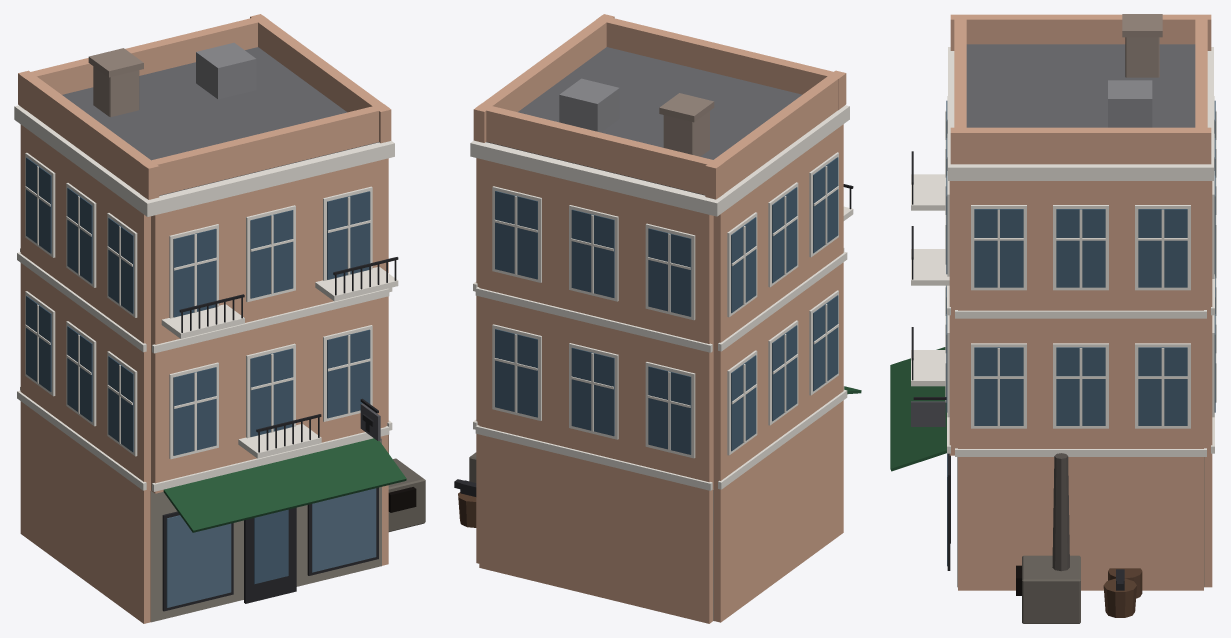
Rendered from forge_4.glb.
3 views of the same model, side by side, from view 1: azimuth 30°, elevation 25°; view 2: azimuth 150°, elevation 25°; view 3: azimuth 270°, elevation 25° (orthographic).
Parts seen in each view (by area): view 1: forge4_plaster, forge4_glass, forge4_stone, forge4_wood, forge4_cloth, forge4_iron, forge4_brick, forge4_soot; view 2: forge4_plaster, forge4_glass, forge4_wood, forge4_stone, forge4_iron, forge4_brick; view 3: forge4_plaster, forge4_glass, forge4_stone, forge4_wood, forge4_cloth, forge4_iron, forge4_brick.
Part boxes in pixels (left/top/right/bottom): forge4_plaster: left=18, top=14, right=391, bottom=623; forge4_glass: left=26, top=157, right=376, bottom=607; forge4_stone: left=14, top=105, right=425, bottom=622; forge4_wood: left=25, top=152, right=380, bottom=611; forge4_cloth: left=163, top=438, right=406, bottom=532; forge4_iron: left=179, top=42, right=398, bottom=452; forge4_brick: left=88, top=48, right=143, bottom=117; forge4_soot: left=388, top=487, right=416, bottom=512; forge4_plaster: left=473, top=14, right=846, bottom=623; forge4_glass: left=495, top=157, right=838, bottom=454; forge4_wood: left=458, top=152, right=838, bottom=527; forge4_stone: left=469, top=105, right=853, bottom=620; forge4_iron: left=454, top=78, right=853, bottom=496; forge4_brick: left=659, top=93, right=714, bottom=156; forge4_plaster: left=949, top=14, right=1212, bottom=590; forge4_glass: left=946, top=100, right=1215, bottom=566; forge4_stone: left=911, top=47, right=1214, bottom=623; forge4_wood: left=911, top=96, right=1216, bottom=617; forge4_cloth: left=890, top=347, right=946, bottom=471; forge4_iron: left=911, top=80, right=1152, bottom=590; forge4_brick: left=1122, top=14, right=1162, bottom=77.
Bounding box in the file's own units: 7.45 × 10.77 × 6.63.
